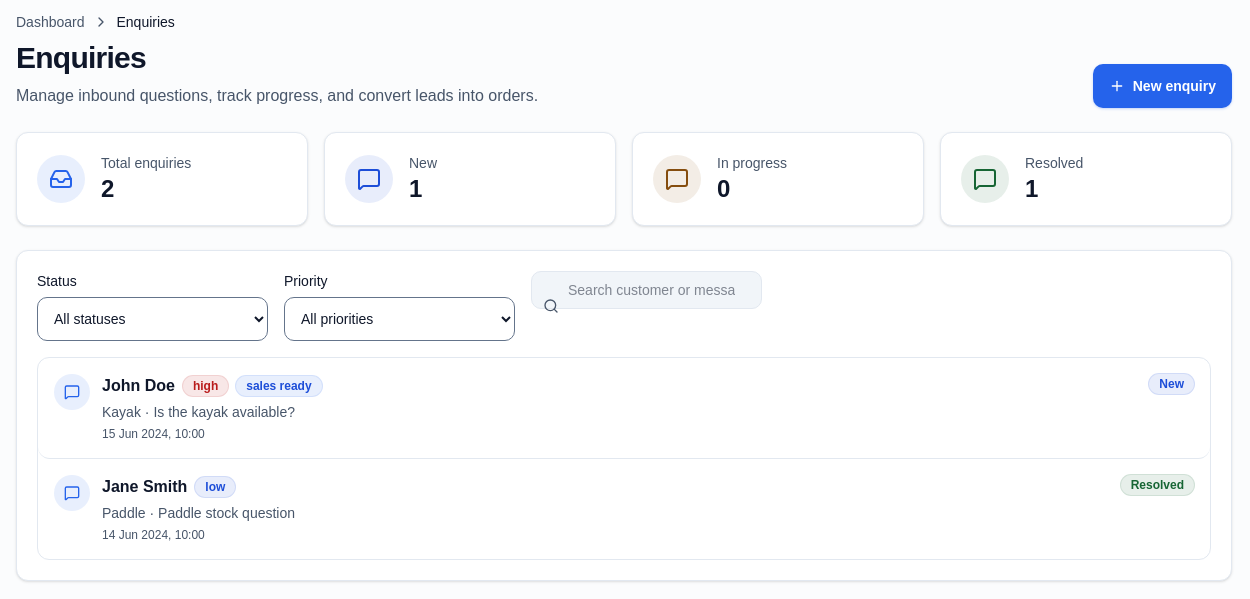
Test case: EnquiriesList › filters by status
The image size is (1250, 599).
Select "Resolved" in the dropdown labelled "Status" at (152, 319), box [37,297,268,341]
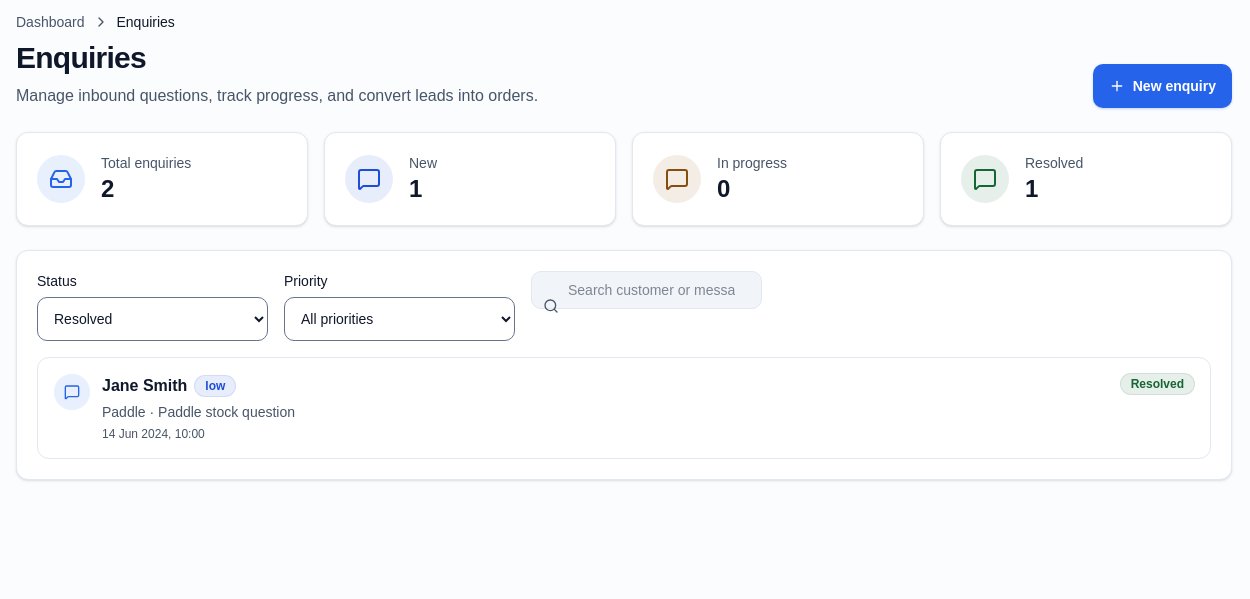
Check: the text "Paddle · Paddle stock question" is shown, box [102,402,295,422]
Check: the link "Is the kayak available?" is gone
